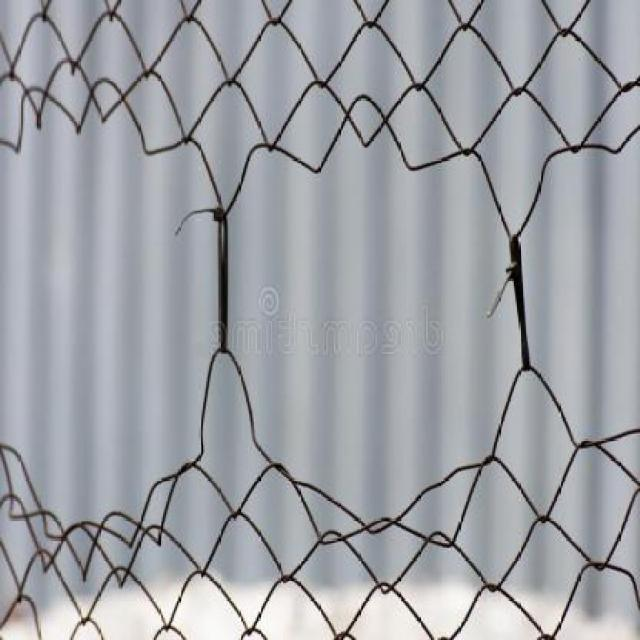fence line: (233, 149, 512, 513), (4, 136, 213, 515), (531, 155, 638, 432)
